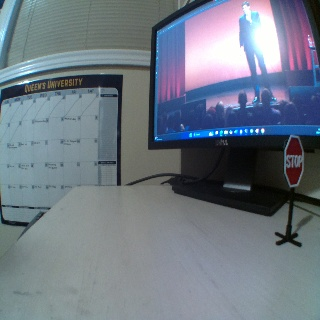sign_stop: (283, 136, 302, 185)
